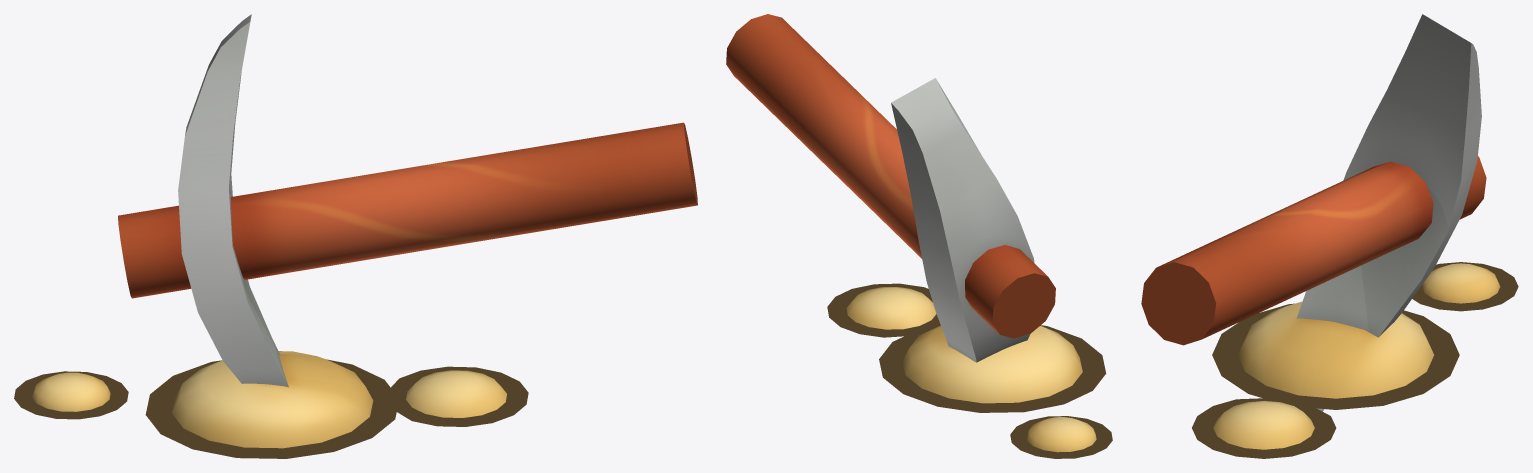
The model's file is Mu_Hoe.fbx.
The picture shows the model from 3 angles, left to right: view 1: azimuth 30°, elevation 25°; view 2: azimuth 150°, elevation 25°; view 3: azimuth 270°, elevation 25°; orthographic projection. The views are drawn at different scales.
Visible parts, largest first — view 1: Mu_Hoe_a, Mu_Hoe_b, Mu_Hoe_shadow; view 2: Mu_Hoe_a, Mu_Hoe_b, Mu_Hoe_shadow; view 3: Mu_Hoe_a, Mu_Hoe_b, Mu_Hoe_shadow.
Part boxes in pixels (<box>): Mu_Hoe_a: <box>118,14,697,387</box>; Mu_Hoe_b: <box>32,351,506,448</box>; Mu_Hoe_shadow: <box>14,359,528,458</box>; Mu_Hoe_a: <box>726,14,1055,362</box>; Mu_Hoe_b: <box>846,287,1096,452</box>; Mu_Hoe_shadow: <box>827,283,1112,458</box>; Mu_Hoe_a: <box>1141,14,1486,411</box>; Mu_Hoe_b: <box>1213,263,1500,449</box>; Mu_Hoe_shadow: <box>1192,262,1518,458</box>.
Bounding box in the file's own units: 141 × 95.25 × 83.75.
2 materials, 1 textured.
